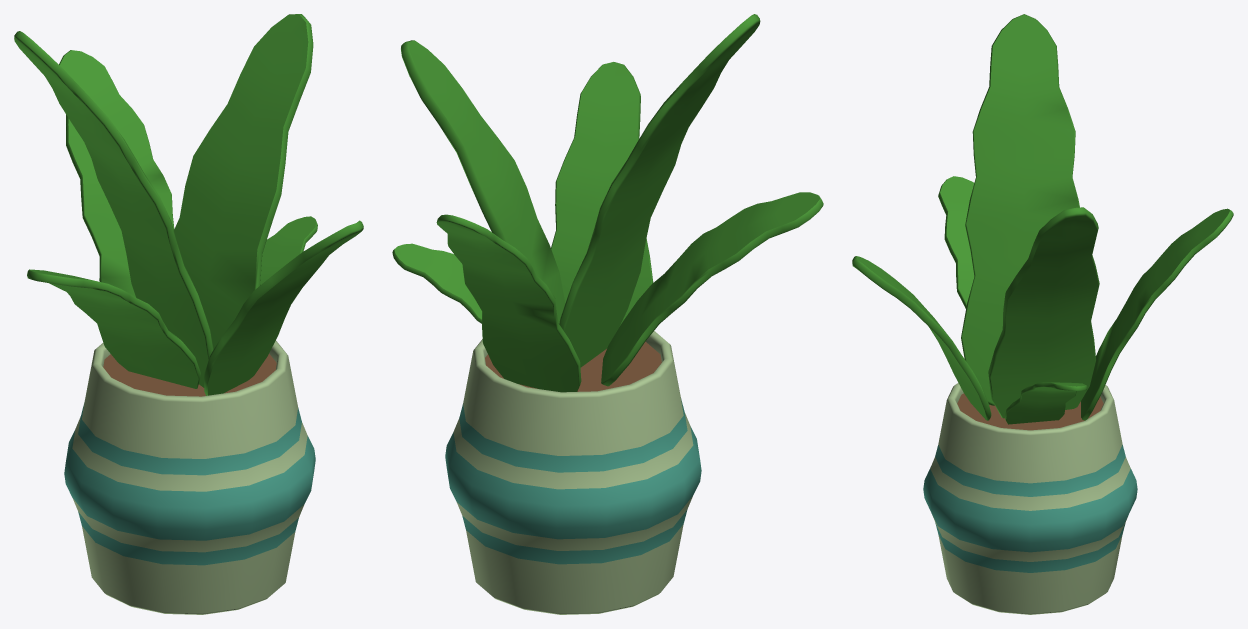
The model's file is Plant_26.glb.
3 views of the same model, side by side, from view 1: azimuth 30°, elevation 25°; view 2: azimuth 150°, elevation 25°; view 3: azimuth 270°, elevation 25° (orthographic). The views are drawn at different scales.
Visible parts, largest first — view 1: Plant_26; view 2: Plant_26; view 3: Plant_26.
Boxes of the visible parts, <box> form: Plant_26: <box>14,14,363,614</box>; Plant_26: <box>392,14,823,614</box>; Plant_26: <box>852,14,1233,614</box>.
Bounding box in the file's own units: 0.6677 × 1.07 × 0.7455.
Materials: 1 (1 with a texture image).
